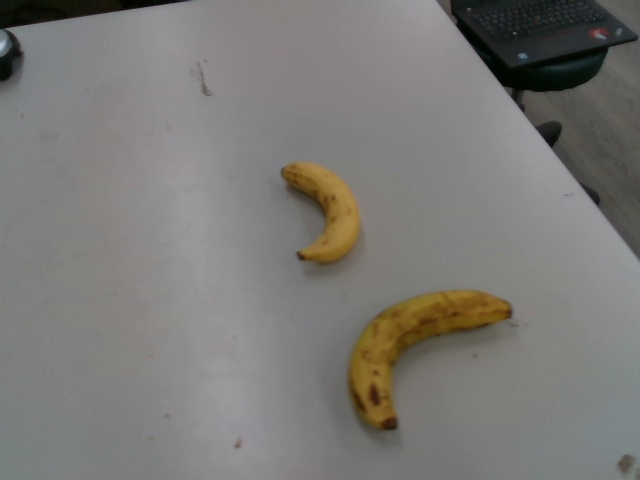banana: (346, 289, 512, 435), (279, 160, 361, 264)
